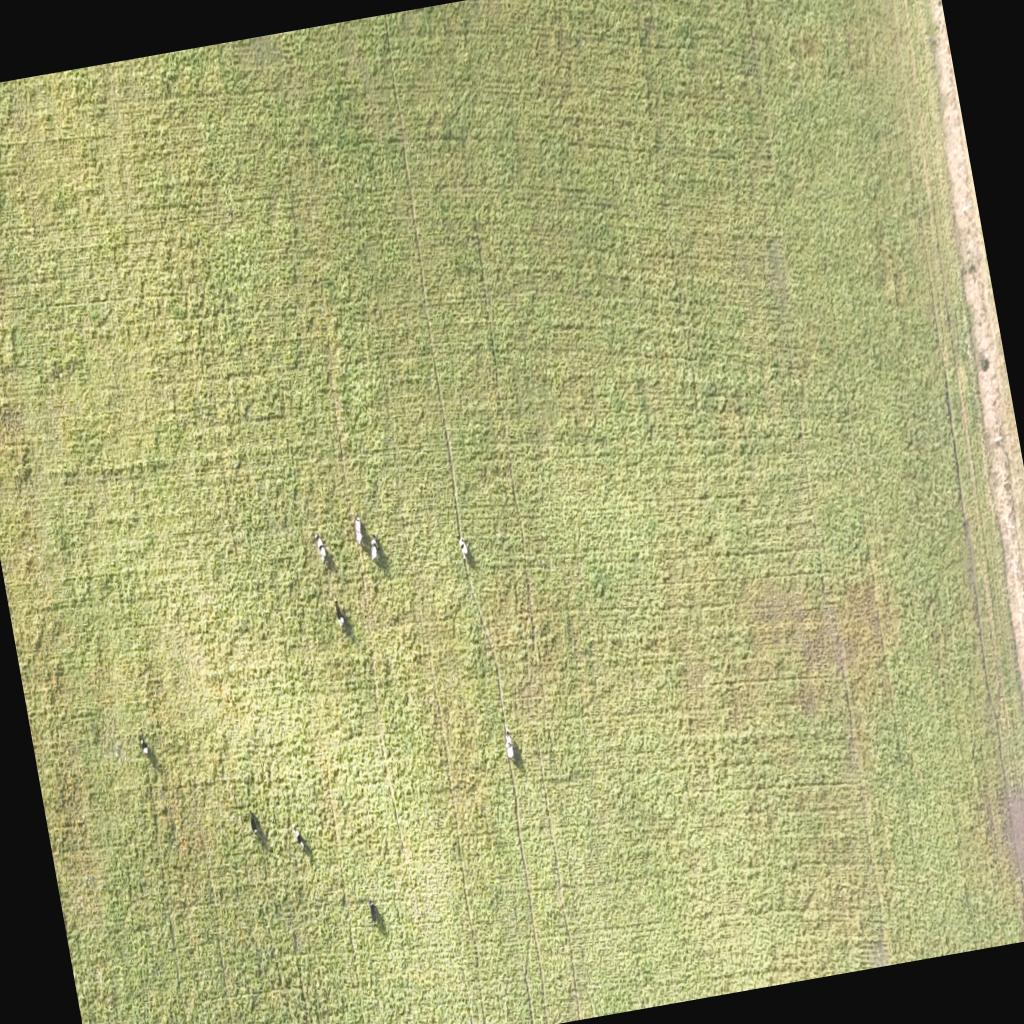cow: (352, 516, 366, 548), (314, 532, 328, 562), (367, 899, 382, 926), (503, 729, 516, 760), (368, 535, 382, 563), (248, 806, 260, 838), (334, 598, 346, 628), (292, 824, 305, 849), (458, 536, 470, 560), (142, 742, 150, 758)
